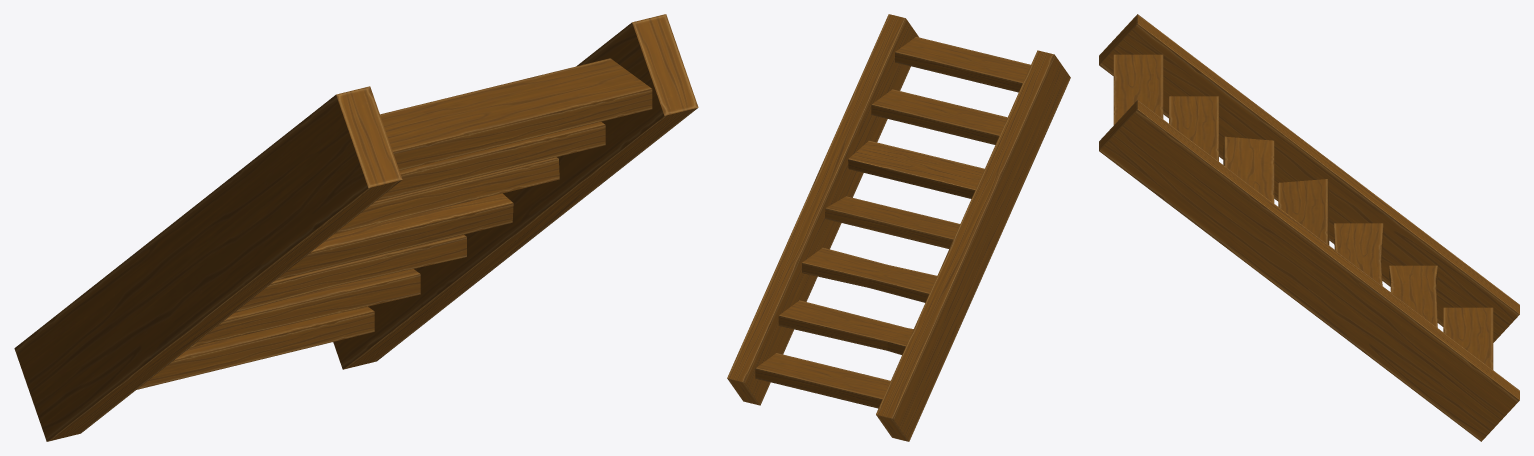
Rendered from SM_Stairs_Interior_A_01.fbx.
3 views of the same model, side by side, from view 1: azimuth 30°, elevation 25°; view 2: azimuth 150°, elevation 25°; view 3: azimuth 270°, elevation 25° (orthographic). The views are drawn at different scales.
Parts seen in each view (by area): view 1: SM_Stairs_Interior_A_01; view 2: SM_Stairs_Interior_A_01; view 3: SM_Stairs_Interior_A_01.
Part boxes in pixels (x1,y1,x2,y2): SM_Stairs_Interior_A_01: [14, 14, 698, 441]; SM_Stairs_Interior_A_01: [727, 14, 1070, 441]; SM_Stairs_Interior_A_01: [1099, 14, 1519, 441].
Bounding box in the file's own units: 1.7 × 2.75 × 3.16.
